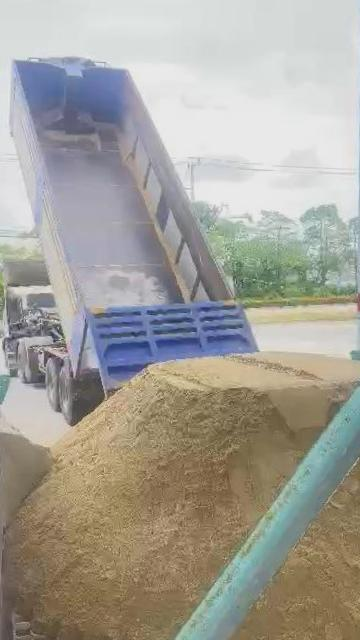sand: (7, 354, 360, 640), (214, 433, 360, 640), (0, 417, 52, 531)
